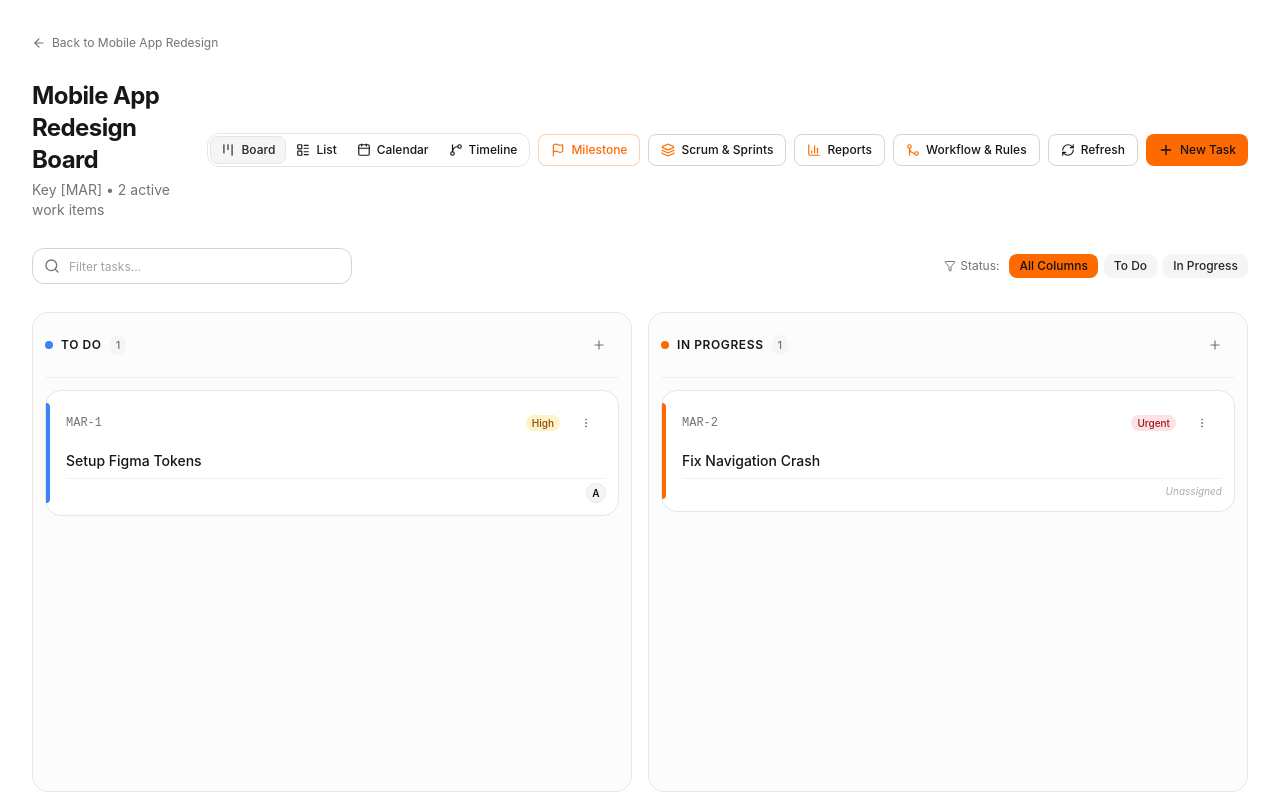
ProjectBoardPage › opens task history drawer when requested
Expected: the text "Setup Figma Tokens" is shown, x1=66 y1=452 x2=202 y2=469
Click the button named "Actions for MAR-1" at (586, 423), box x1=566 y1=403 x2=606 y2=443
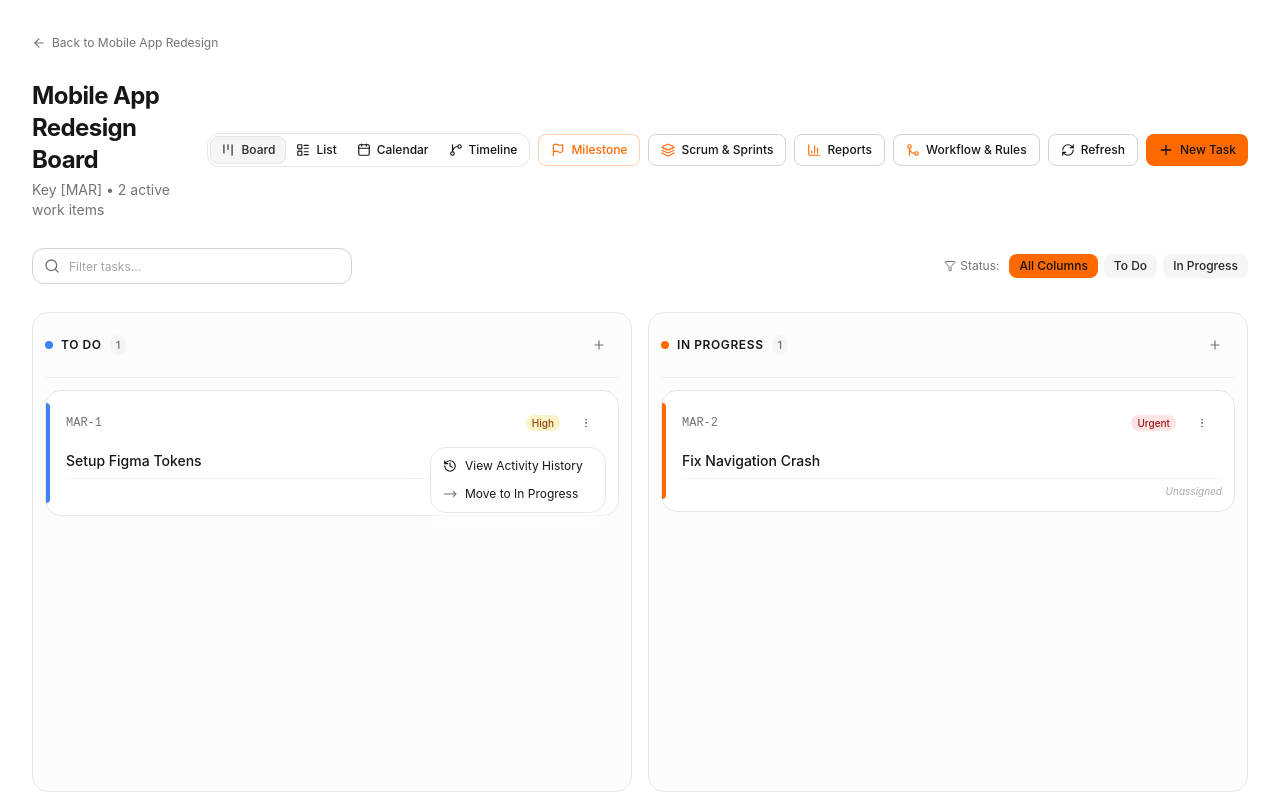
Click the menu item "View Activity History" at (513, 466), box x1=443 y1=458 x2=583 y2=473
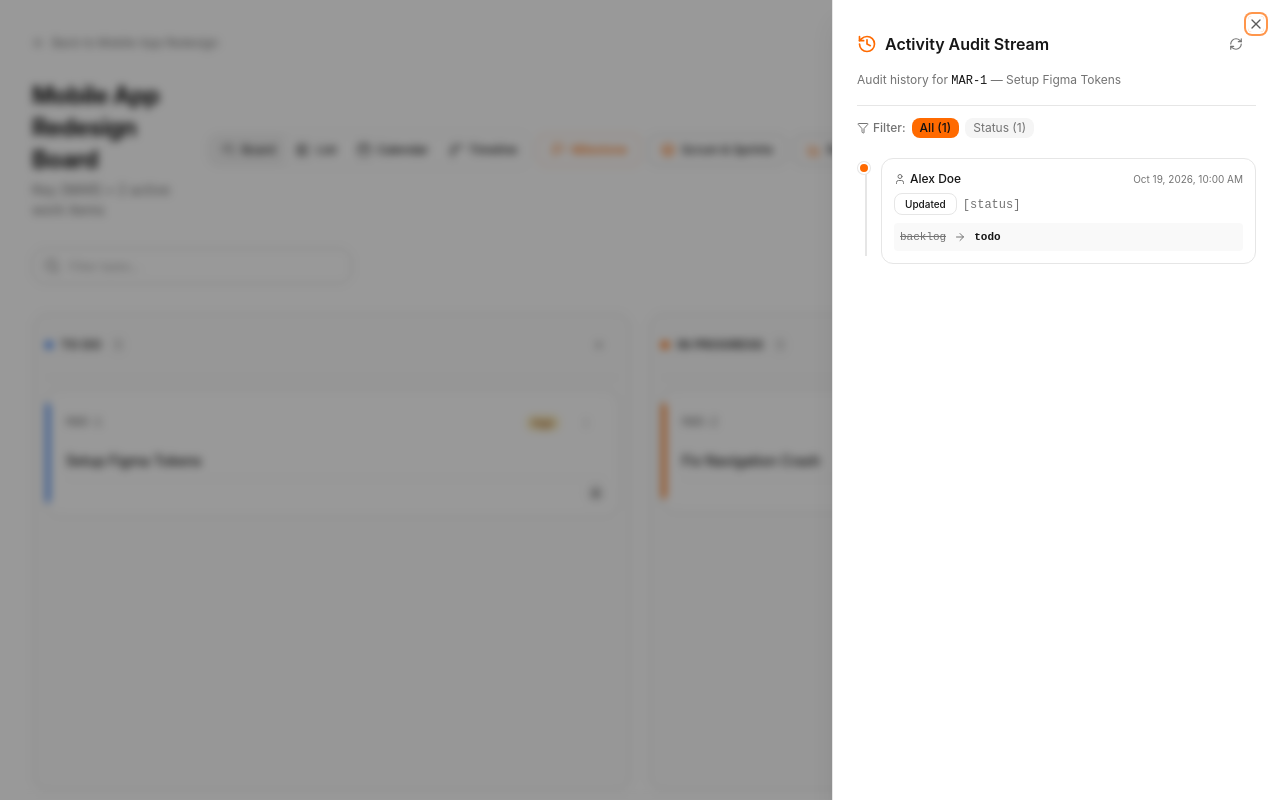
Now the heading "Activity Audit Stream" is shown, box x1=885 y1=32 x2=1049 y2=56
Now the text "Alex Doe" is shown, box x1=910 y1=171 x2=961 y2=187
